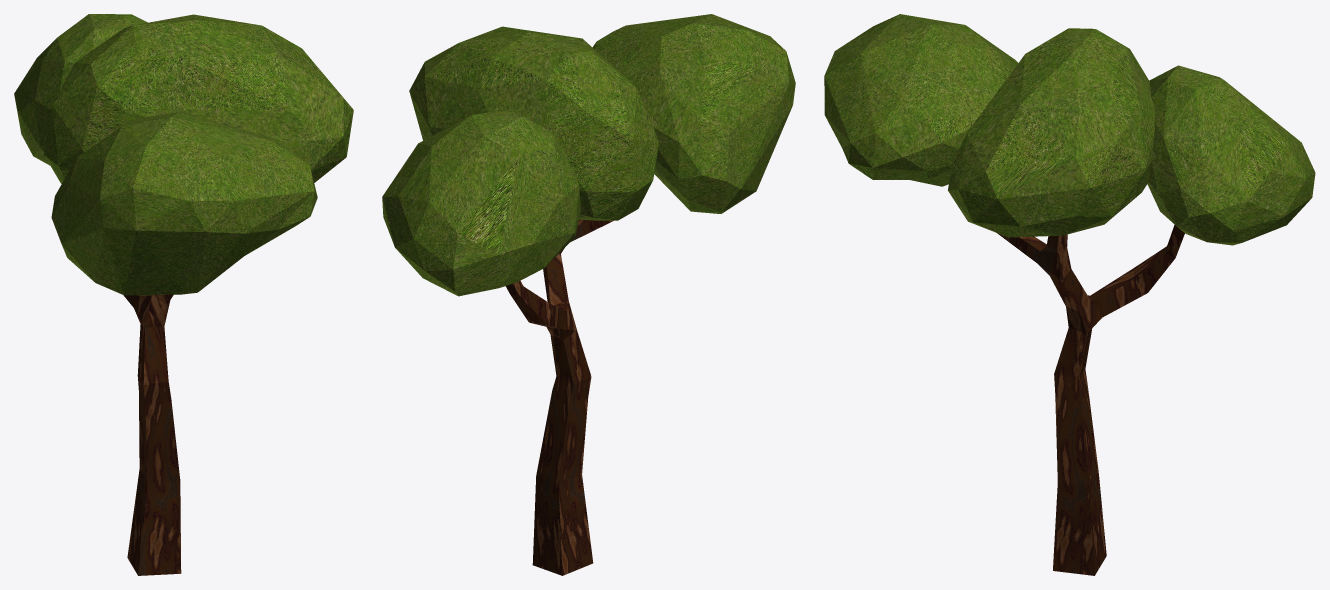
File: Arvore2.fbx
3 renders of one model, left to right at view 1: azimuth 30°, elevation 25°; view 2: azimuth 150°, elevation 25°; view 3: azimuth 270°, elevation 25°, orthographic. The views are drawn at different scales.
Visible parts, largest first — view 1: Folha, Tronco2; view 2: Folha, Tronco2; view 3: Folha, Tronco2.
Boxes of the visible parts, bbox=[...] form: Folha: bbox=[14, 14, 353, 295]; Tronco2: bbox=[123, 294, 181, 575]; Folha: bbox=[382, 14, 795, 296]; Tronco2: bbox=[505, 220, 613, 575]; Folha: bbox=[824, 14, 1315, 250]; Tronco2: bbox=[997, 224, 1184, 575].
Bounding box in the file's own units: 188 × 320 × 269.
